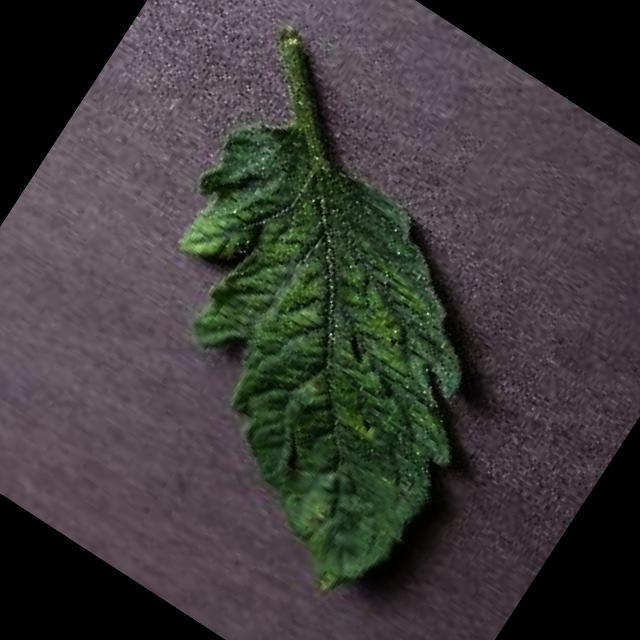Tomato mosaic virus leaf: (39, 98, 562, 624)
